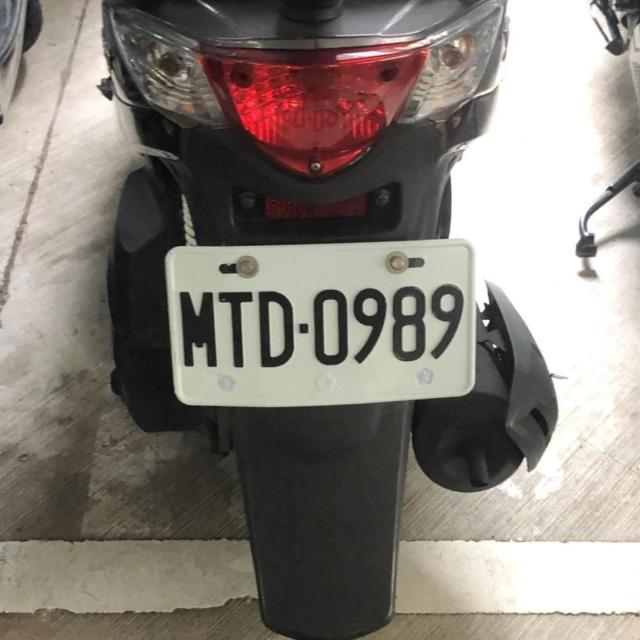W: (159, 235, 480, 408)
